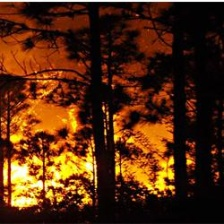fire: (1, 119, 99, 212)
